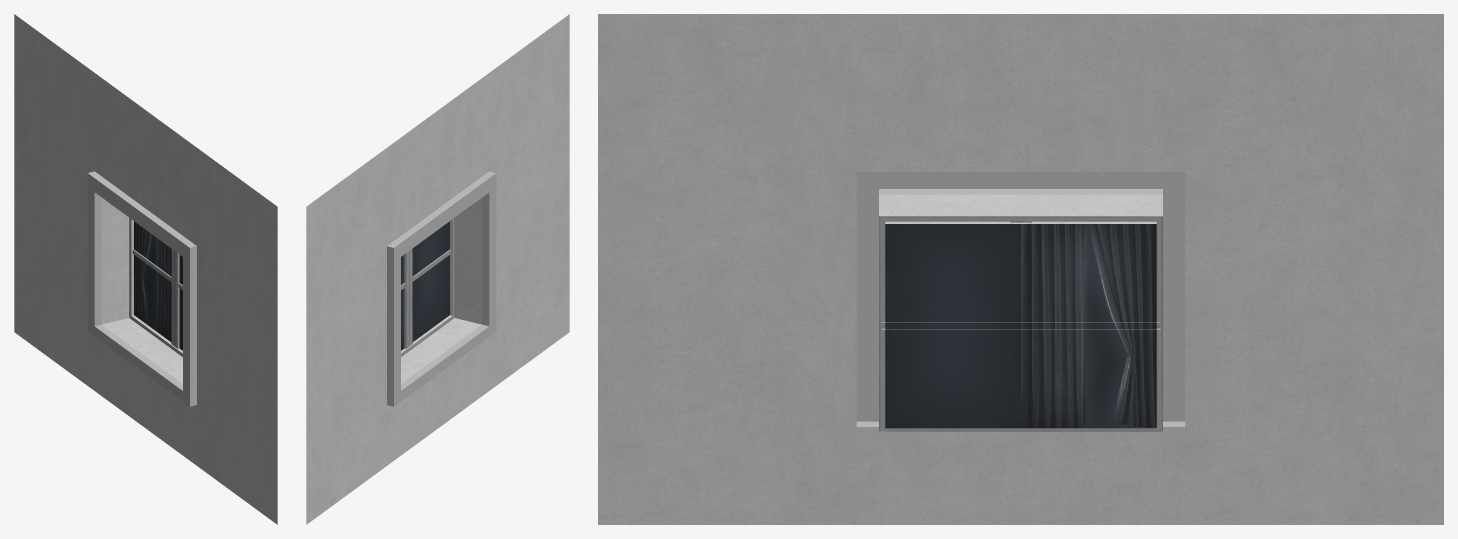
File: MB_Wall_Window_A_10.fbx
3 views of the same model, side by side, from view 1: azimuth 30°, elevation 25°; view 2: azimuth 150°, elevation 25°; view 3: azimuth 270°, elevation 25° (orthographic). The views are drawn at different scales.
Visible parts, largest first — view 1: MB_Wall_Window_A_10; view 2: MB_Wall_Window_A_10; view 3: MB_Wall_Window_A_10.
Boxes of the visible parts, x1,y1,x2,y2 form: MB_Wall_Window_A_10: (14,14,277,524); MB_Wall_Window_A_10: (306,14,569,524); MB_Wall_Window_A_10: (598,14,1443,524).
Size of the model in its own units: 49.89 by 400 by 600.
